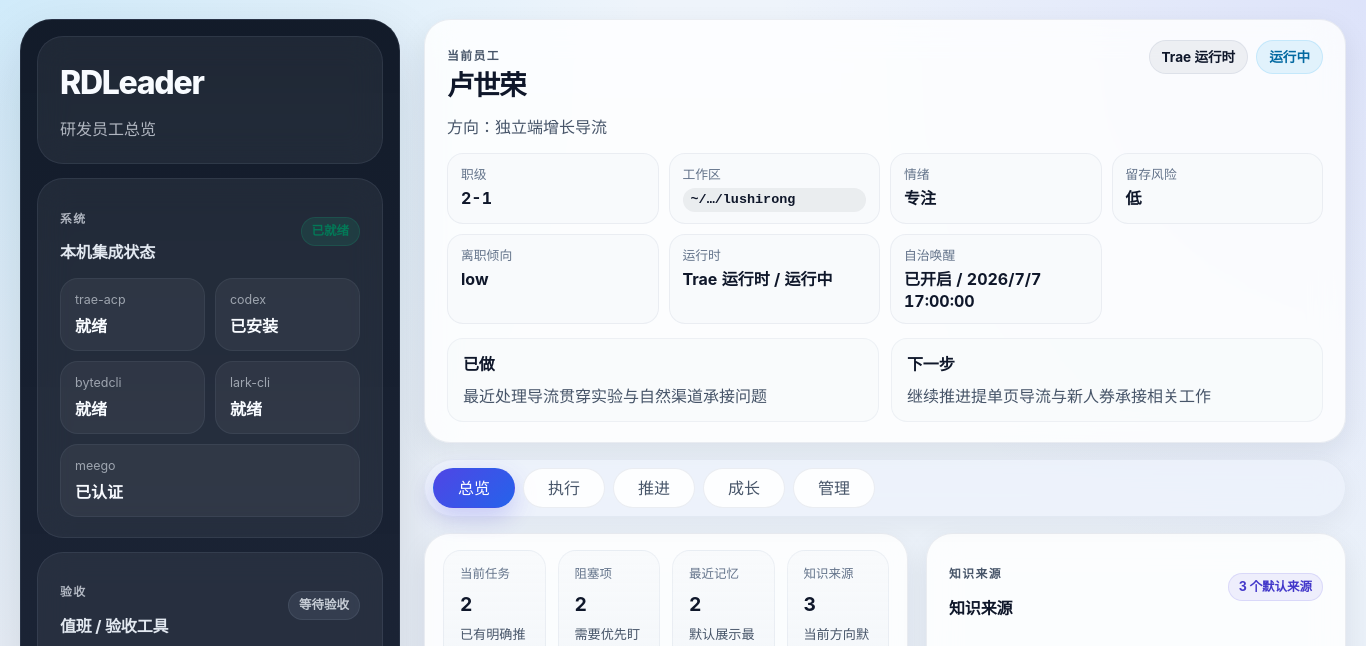
App › organizes the long manager surface into tabs so the detail pane is shorter to scan
Expected: the tab "总览" is shown, [433, 468, 515, 508]
Expected: the tab "推进" is shown, [613, 468, 695, 508]
Click the tab "执行": (564, 488) [523, 468, 605, 508]
(page scrolled)
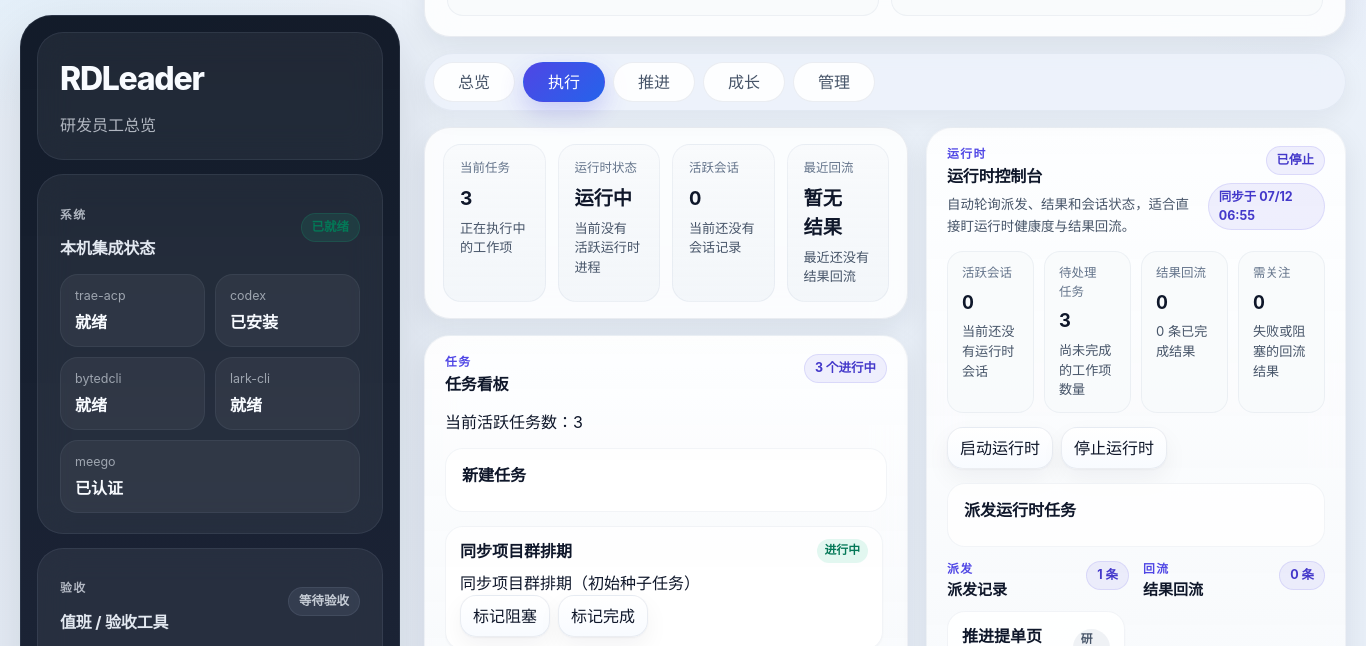
Expected: the heading "任务看板" is shown, [445, 372, 508, 396]
